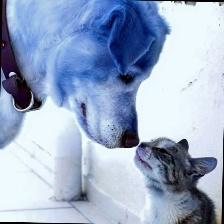kedo: (132, 138, 217, 223)
